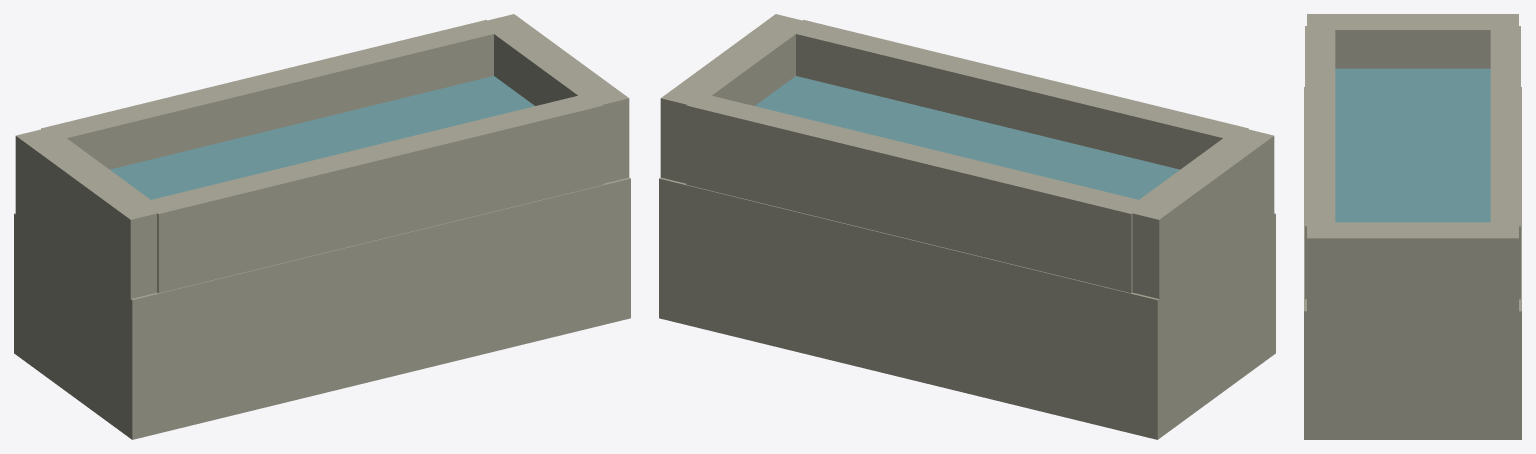
File: trough.glb
3 renders of one model, left to right at view 1: azimuth 30°, elevation 25°; view 2: azimuth 150°, elevation 25°; view 3: azimuth 270°, elevation 25°, orthographic. The views are drawn at different scales.
Visible parts, largest first — view 1: StoneWateringTrough; view 2: StoneWateringTrough; view 3: StoneWateringTrough.
Part boxes in pixels (box(x1,y1,x2,y2)): StoneWateringTrough: box(14, 14, 630, 439); StoneWateringTrough: box(659, 14, 1275, 439); StoneWateringTrough: box(1304, 14, 1521, 439).
Bounding box in the file's own units: 2.8 × 1.18 × 1.15.
